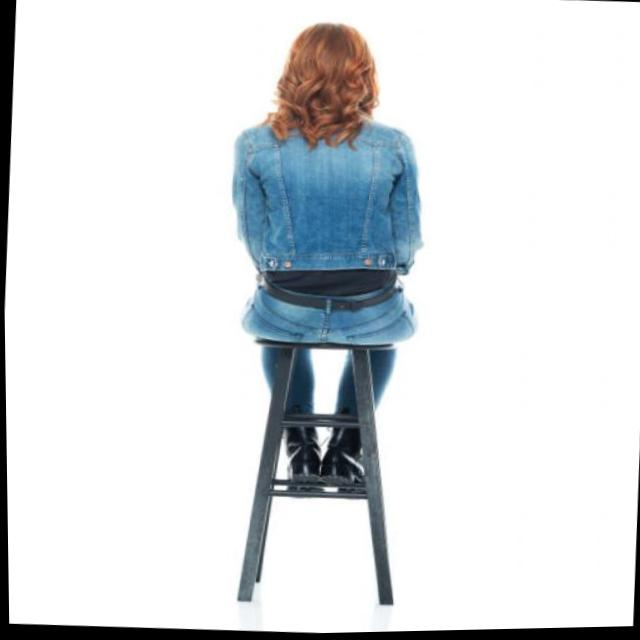no helmet: (275, 3, 398, 138)
